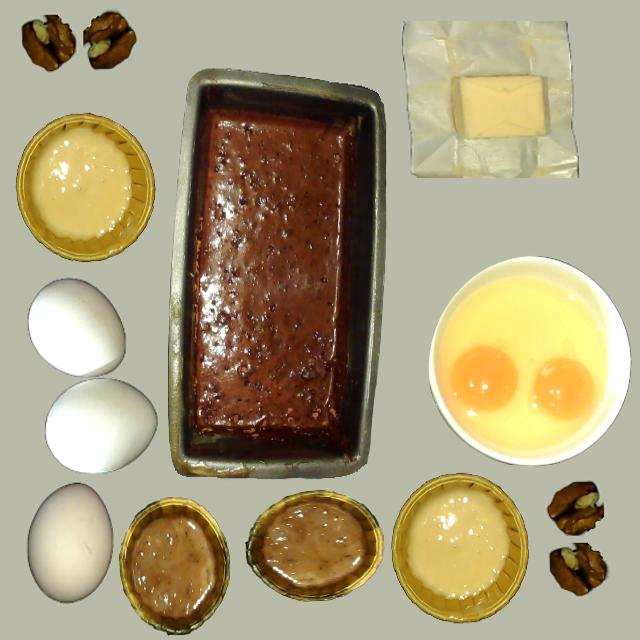Egg: (450, 345, 520, 414), (533, 357, 596, 421)
